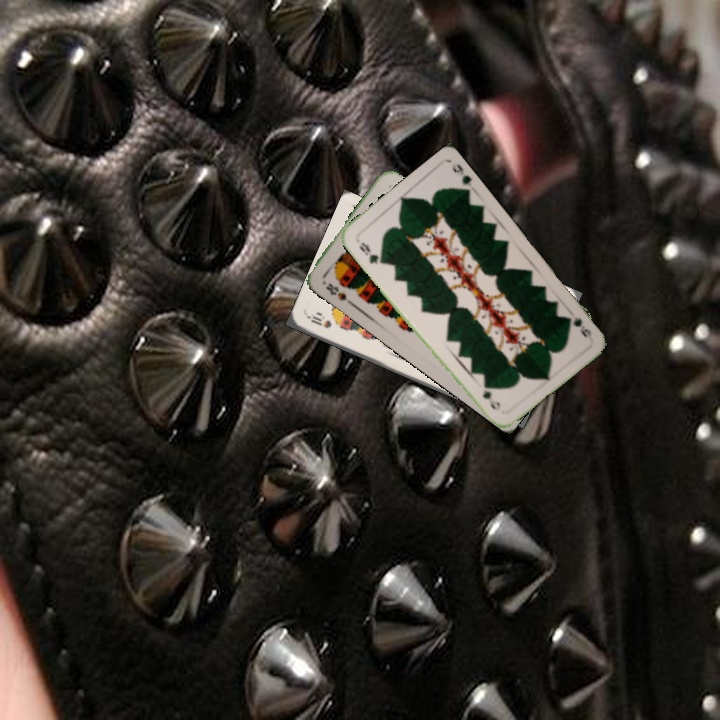G9: (560, 312, 594, 340), (355, 238, 386, 267)
S10: (304, 312, 334, 331)
S8: (322, 279, 354, 306)
